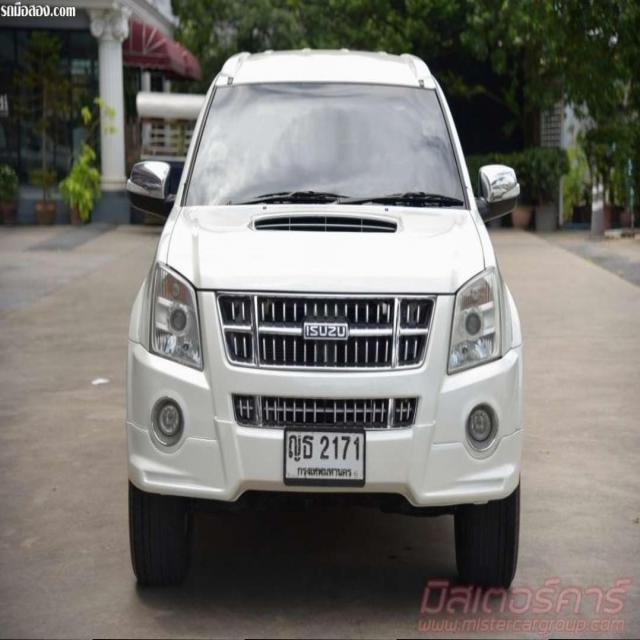license_plate: (282, 426, 368, 486)
